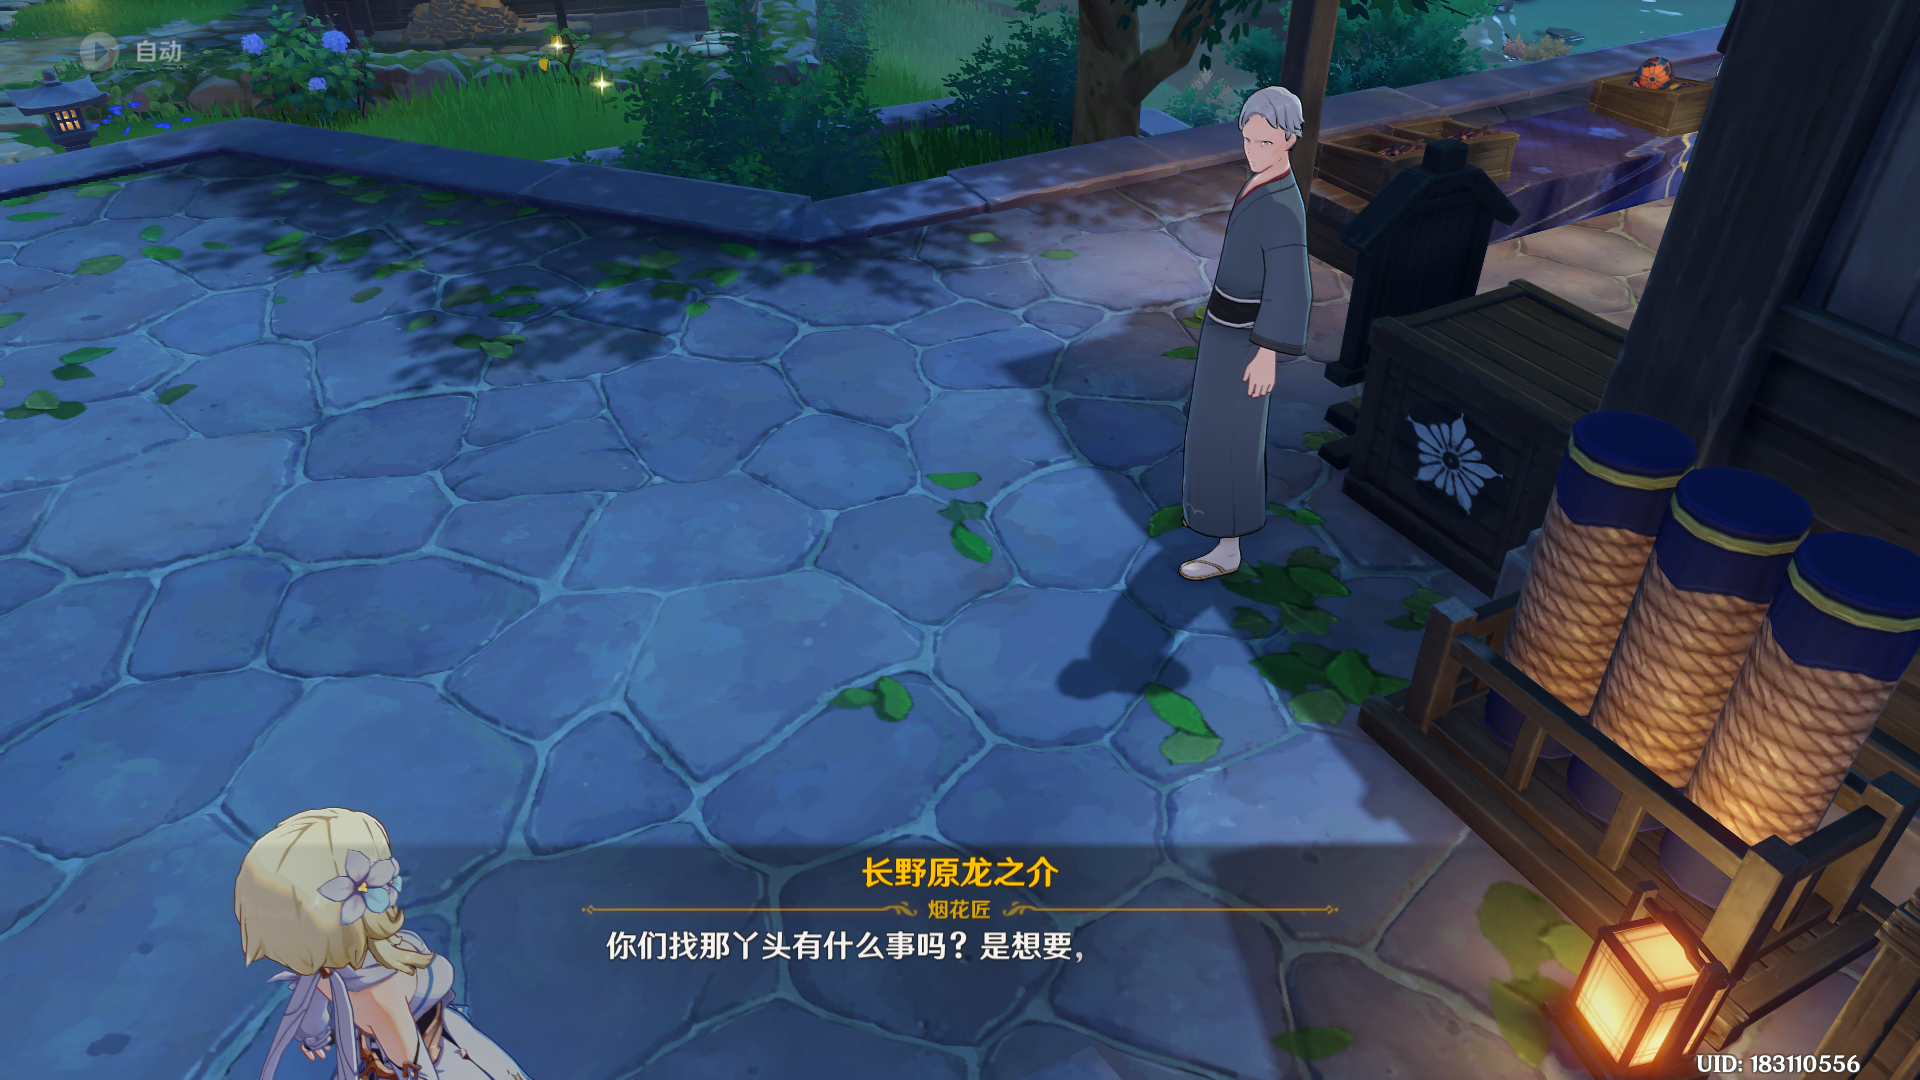character: (140, 773, 554, 1080)
